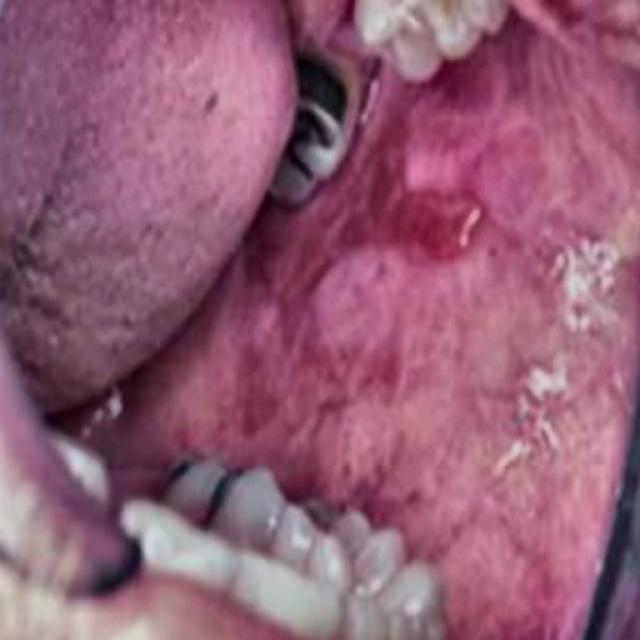cancer-detection: (47, 2, 639, 639)
processing_area: (0, 0, 639, 639)
